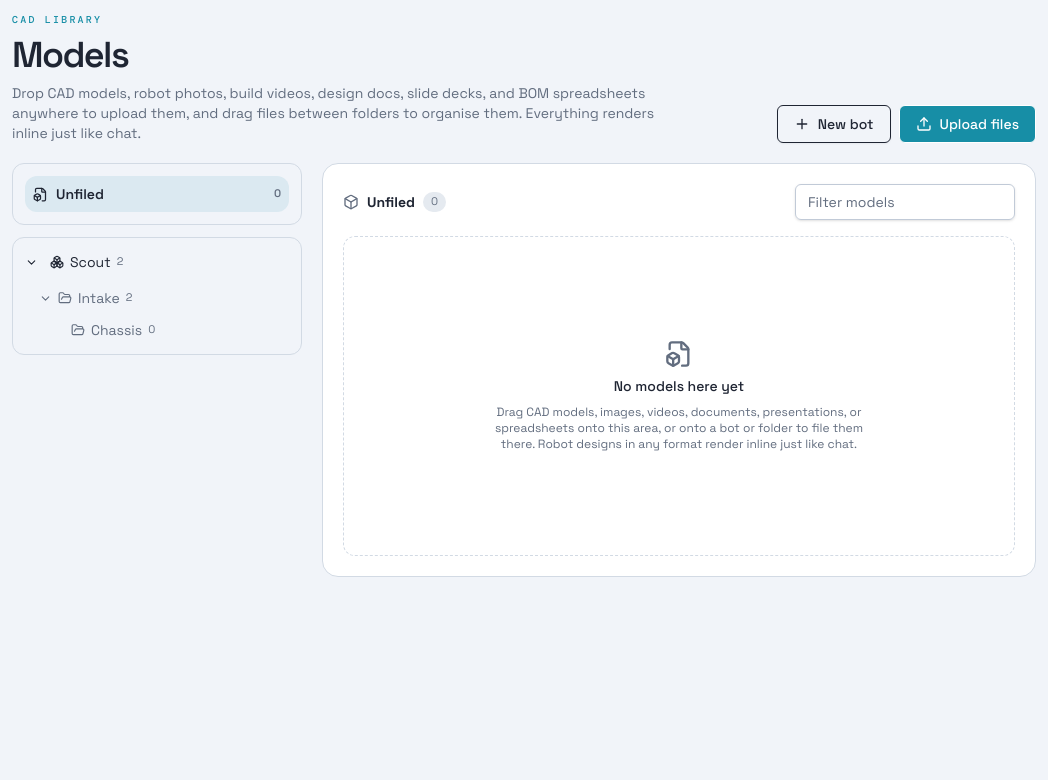
Test case: CAD README preview › automatically renders a case-insensitive location README safely with theme styles
The image size is (1048, 780).
Click the button with test id "cad-folder-folder-intake" at (136, 298), box [58,282,214,314]
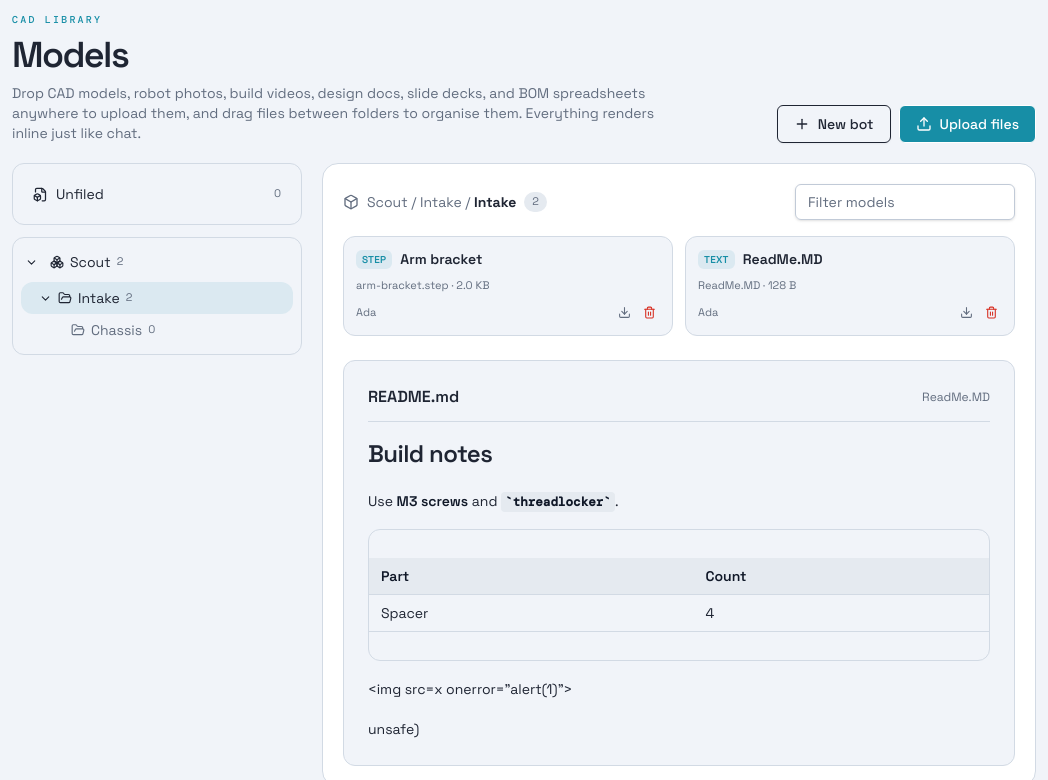
expect the heading "Build notes" is shown: met, box [368,438,492,468]
expect the element with test id "cad-readme-preview" shows "M3 screws": met, box [397,492,468,510]
expect the element with test id "cad-readme-preview" shows "threadlocker": met, box [513,494,603,510]
